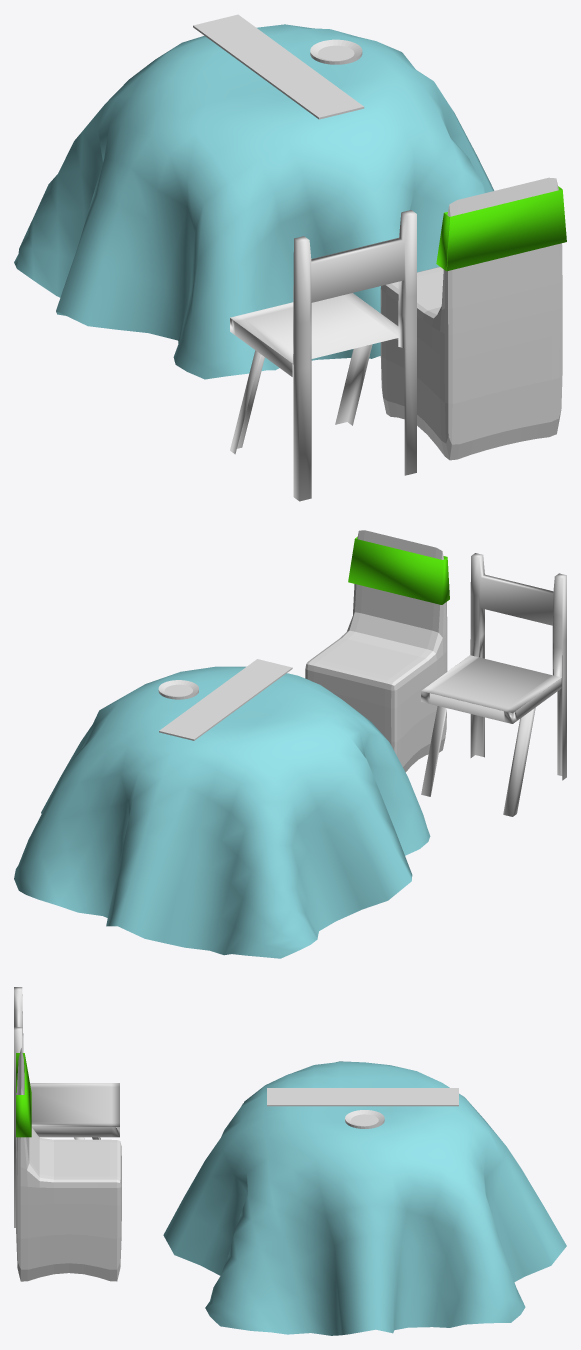
The model's file is PFScene6.gltf.
The picture shows the model from 3 angles, top to bottom: view 1: azimuth 30°, elevation 25°; view 2: azimuth 150°, elevation 25°; view 3: azimuth 270°, elevation 25°; orthographic projection. The views are drawn at different scales.
Visible parts, largest first — view 1: TableCloth, Chair.001, BasicChair, ChairRunner, TableRunner, Plate; view 2: TableCloth, Chair.001, BasicChair, ChairRunner, TableRunner, Plate; view 3: TableCloth, Chair.001, BasicChair, TableRunner, ChairRunner, Plate.
Boxes of the visible parts, x1,y1,x2,y2 form: TableCloth: (14, 24, 494, 379); Chair.001: (380, 177, 562, 460); BasicChair: (230, 210, 416, 501); ChairRunner: (436, 186, 566, 271); TableRunner: (193, 14, 364, 119); Plate: (310, 39, 362, 64); TableCloth: (14, 666, 430, 958); Chair.001: (305, 530, 447, 772); BasicChair: (421, 553, 566, 816); ChairRunner: (348, 537, 449, 604); TableRunner: (159, 659, 292, 740); Plate: (158, 680, 198, 699); TableCloth: (163, 1061, 566, 1335); Chair.001: (16, 1048, 121, 1281); BasicChair: (14, 987, 119, 1227); TableRunner: (267, 1088, 458, 1106); ChairRunner: (16, 1053, 31, 1137); Plate: (345, 1110, 384, 1128).
Bounding box in the file's own units: 152 × 90.34 × 209.
